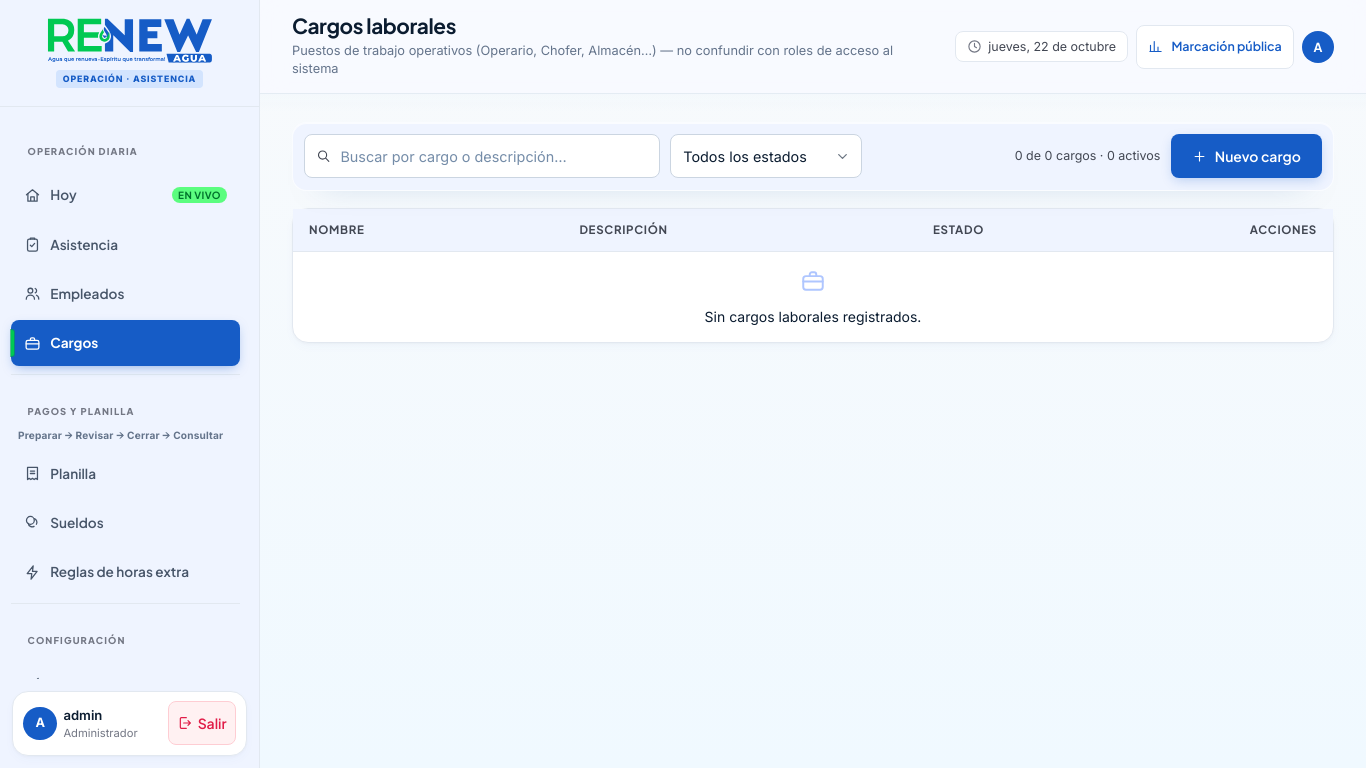
Admin · cargos: borrador del alta › un error conserva el borrador sin cambios
Click the button "Nuevo cargo". click: (1246, 156)
box: [1171,134,1322,178]
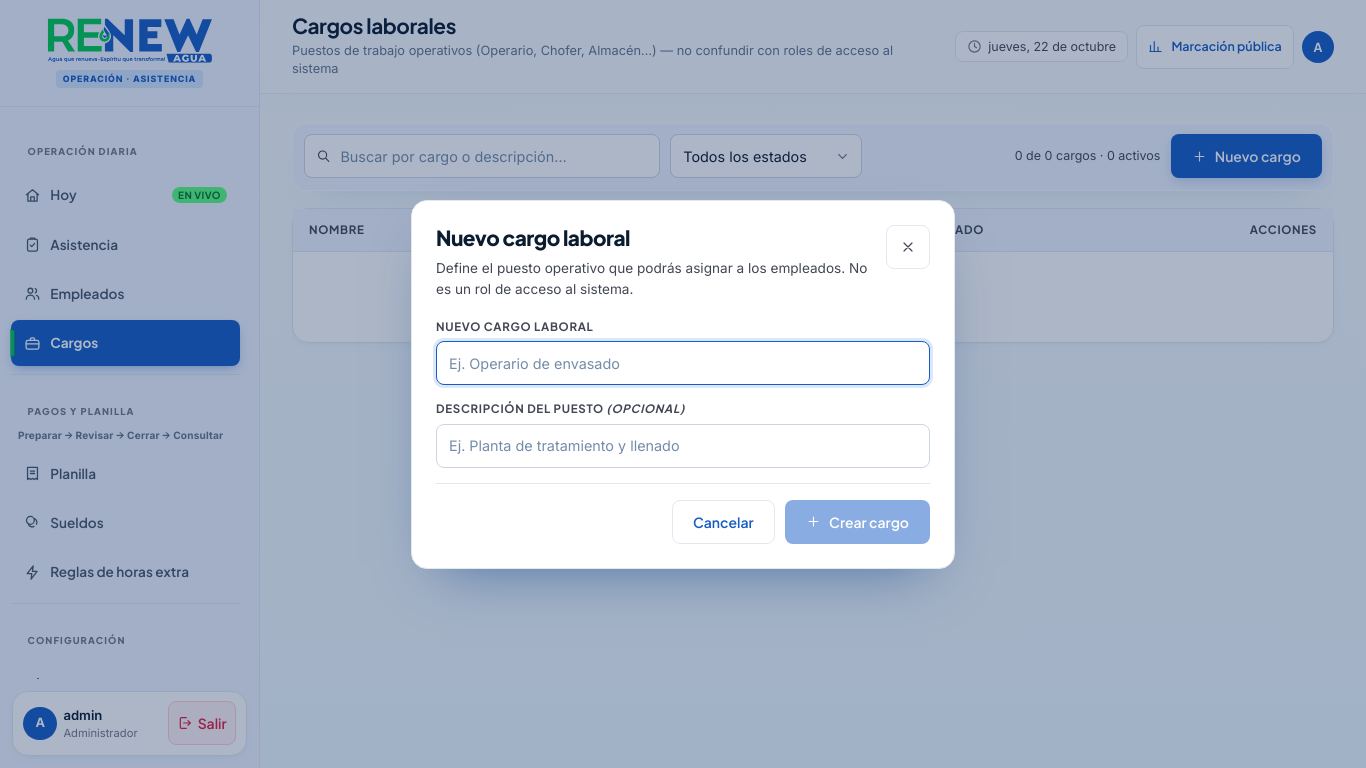
Type "Primer cargo" into the field labelled "Nuevo cargo laboral". click: (683, 363)
box: [436,341,930,385]
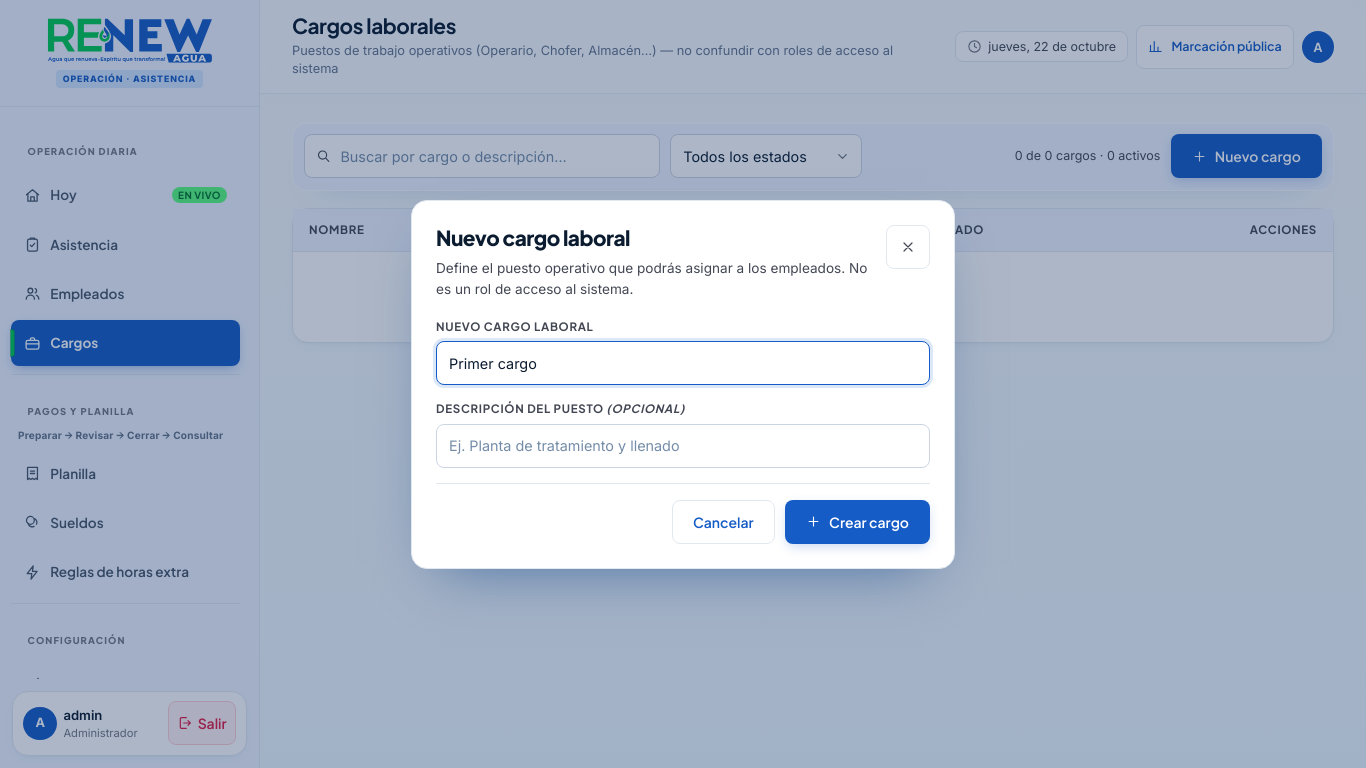
Type "Descripción original" into the field labelled "Descripción del puesto (opcional)". click: (683, 445)
box: [436,423,930,467]
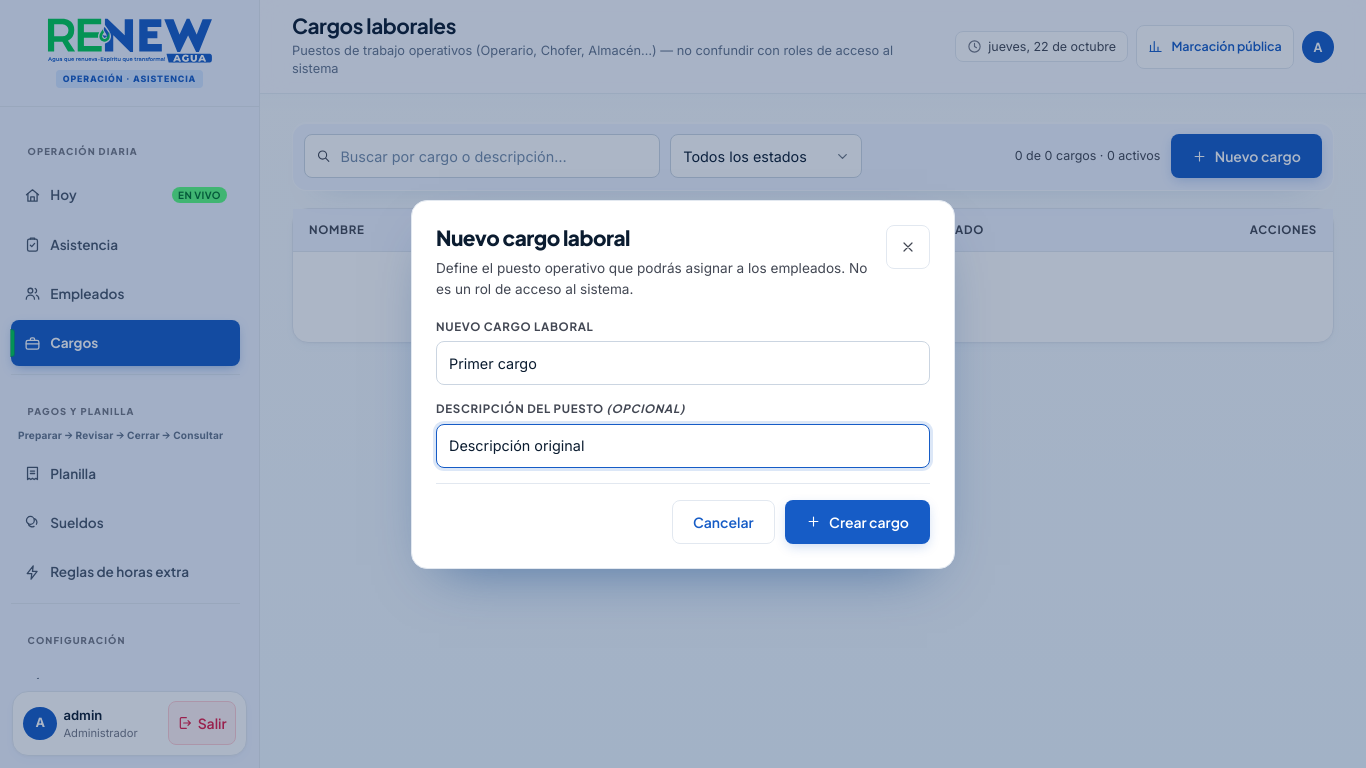
Click the button "Crear cargo". click: (858, 521)
box: [785,499,930,543]
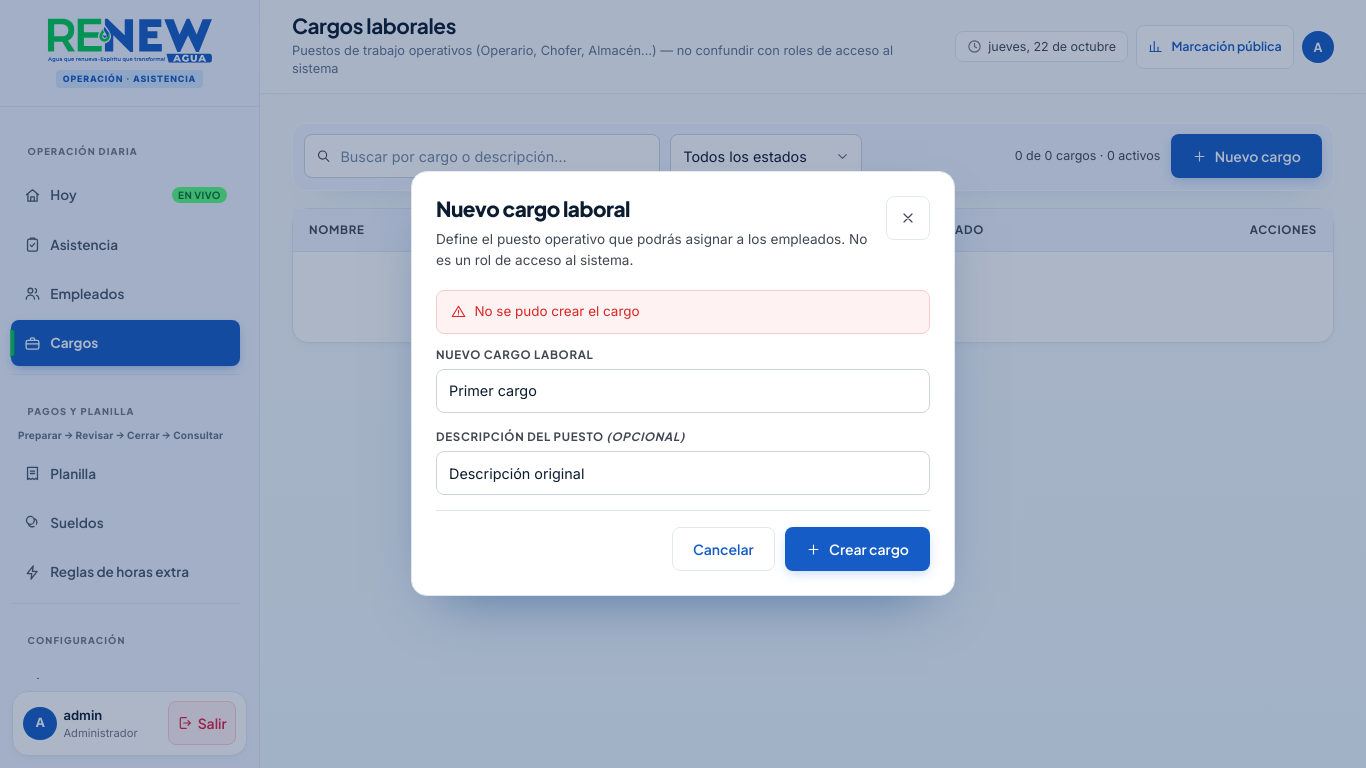
Check: the dialog "Nuevo cargo laboral" is shown, box [411,171,955,597]
Check: the message reads "No se pudo crear el cargo", box [474,304,640,320]
